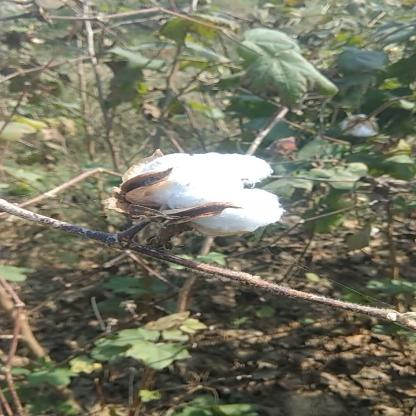cotton_ready: (90, 126, 290, 284)
